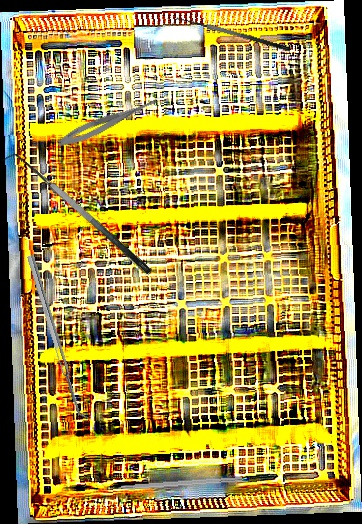Chopper: (98, 469, 243, 492)
Micro Scissor: (54, 90, 164, 152)
Spatula Surgical: (0, 142, 154, 288), (27, 252, 91, 423), (171, 11, 292, 62)
